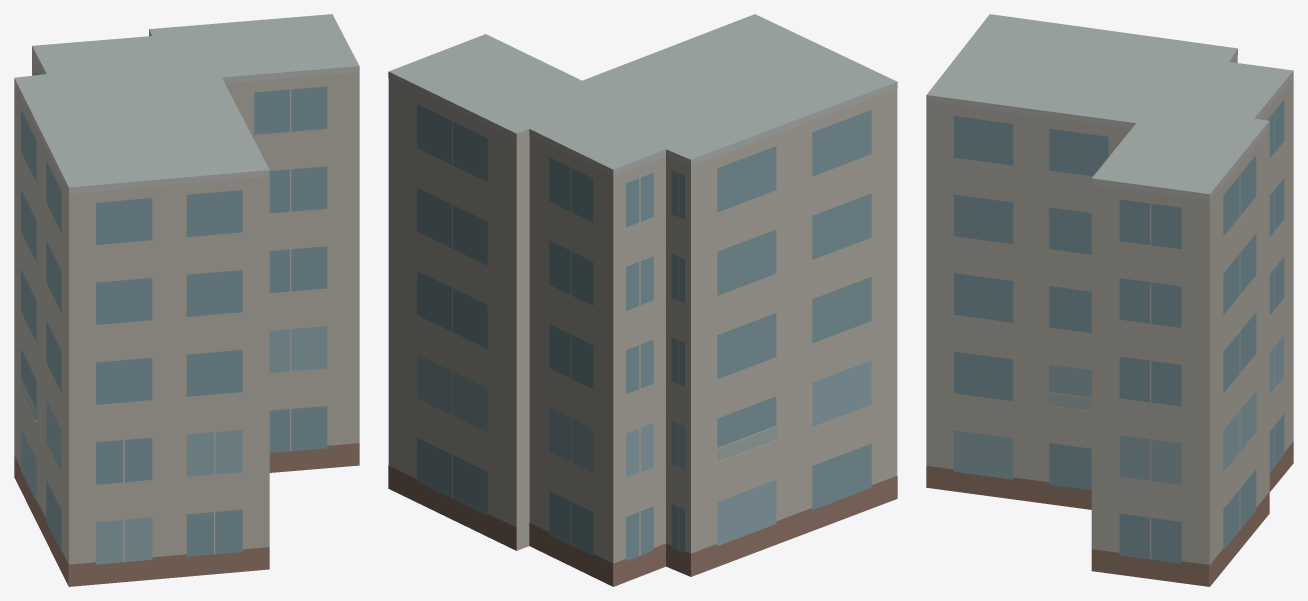
The model's file is survey-upis-32476789.glb.
3 renders of one model, left to right at view 1: azimuth 30°, elevation 25°; view 2: azimuth 150°, elevation 25°; view 3: azimuth 270°, elevation 25°, orthographic. The views are drawn at different scales.
Parts seen in each view (by area): view 1: survey-upis-32476789.tmp; view 2: survey-upis-32476789.tmp; view 3: survey-upis-32476789.tmp.
Part boxes in pixels (left/top/right/bottom): survey-upis-32476789.tmp: left=14, top=14, right=359, bottom=586; survey-upis-32476789.tmp: left=388, top=14, right=897, bottom=586; survey-upis-32476789.tmp: left=926, top=14, right=1293, bottom=586.
Size of the model in its own units: 14.86 by 15.1 by 12.8.
